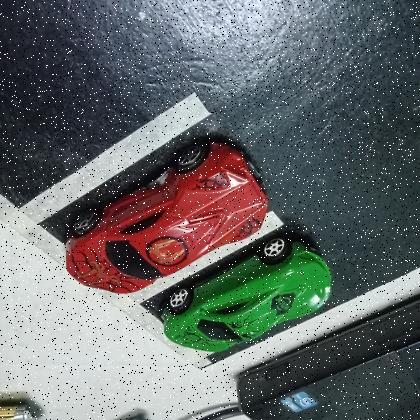Car: (66, 140, 269, 293), (161, 235, 332, 362)
